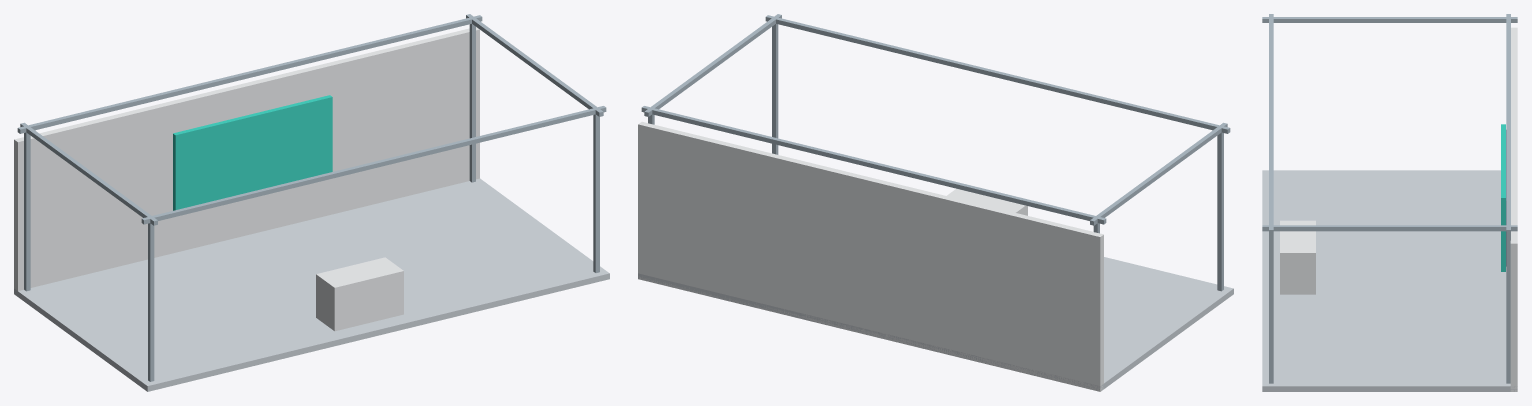
3 renders of one model, left to right at view 1: azimuth 30°, elevation 25°; view 2: azimuth 150°, elevation 25°; view 3: azimuth 270°, elevation 25°, orthographic. The views are drawn at different scales.
Parts seen in each view (by area): view 1: Exhibition Booth Concept; view 2: Exhibition Booth Concept; view 3: Exhibition Booth Concept.
Part boxes in pixels (box(x1,y1,x2,y2)): Exhibition Booth Concept: box(14, 14, 609, 391); Exhibition Booth Concept: box(638, 14, 1233, 391); Exhibition Booth Concept: box(1262, 14, 1517, 391).
Size of the model in its own units: 10 by 3.49 by 5.
